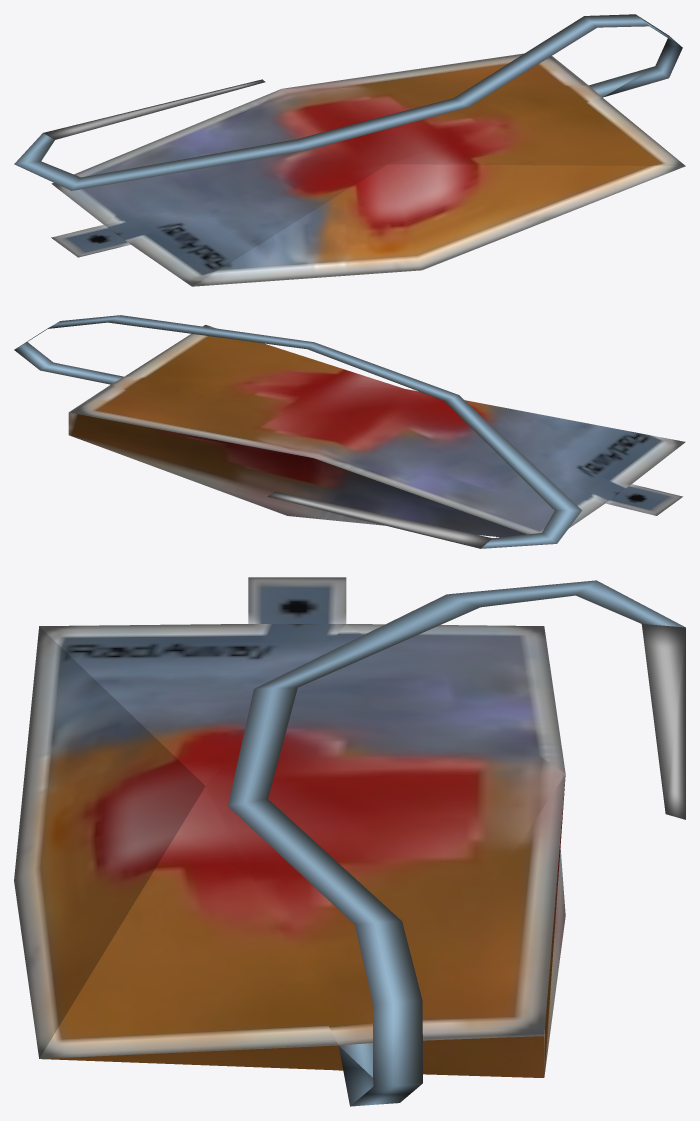
The model's file is radaway.obj.
3 views of the same model, one above another, from view 1: azimuth 30°, elevation 25°; view 2: azimuth 150°, elevation 25°; view 3: azimuth 270°, elevation 25° (orthographic). The views are drawn at different scales.
Visible parts, largest first — view 1: Box01; view 2: Box01; view 3: Box01.
Boxes of the visible parts, <box> form: Box01: <box>14,14,685,286</box>; Box01: <box>14,315,685,548</box>; Box01: <box>14,577,685,1106</box>.
Size of the model in its own units: 45.86 by 7.49 by 23.24.
